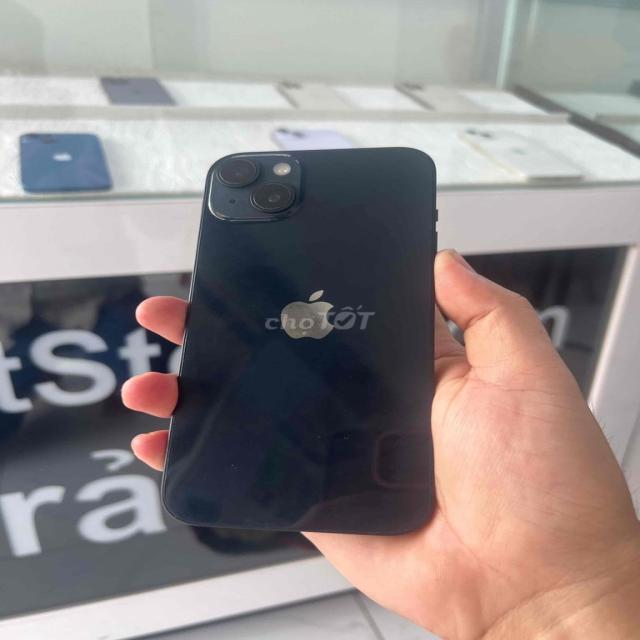gen_14: (154, 138, 450, 542)
